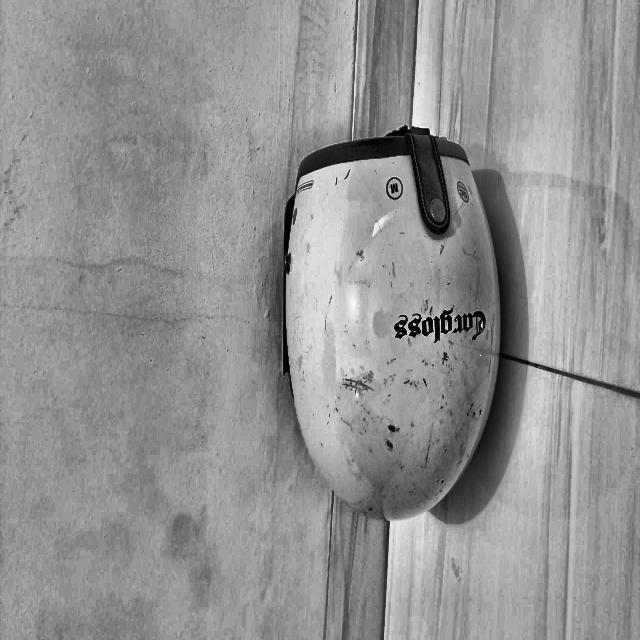Helmet: (57, 473, 306, 640)
